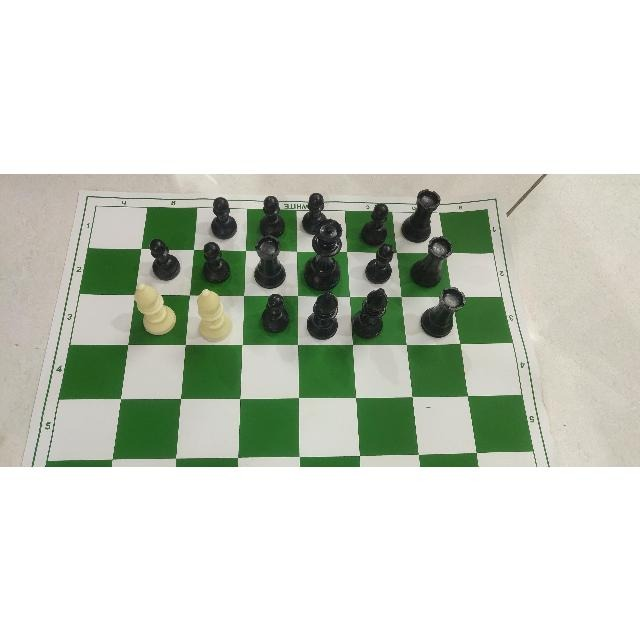black-bishop: (353, 286, 389, 337), (305, 289, 339, 338)
black-pawn: (148, 236, 181, 280), (361, 201, 389, 244), (365, 243, 395, 283), (201, 240, 230, 281), (259, 292, 290, 330), (259, 194, 285, 235), (211, 196, 236, 238), (302, 192, 326, 232)
black-queen: (304, 217, 344, 289)
black-rook: (400, 185, 444, 241), (420, 285, 466, 337), (409, 235, 453, 286), (254, 235, 285, 286)
white-bishop: (134, 282, 177, 334), (195, 284, 234, 341)
